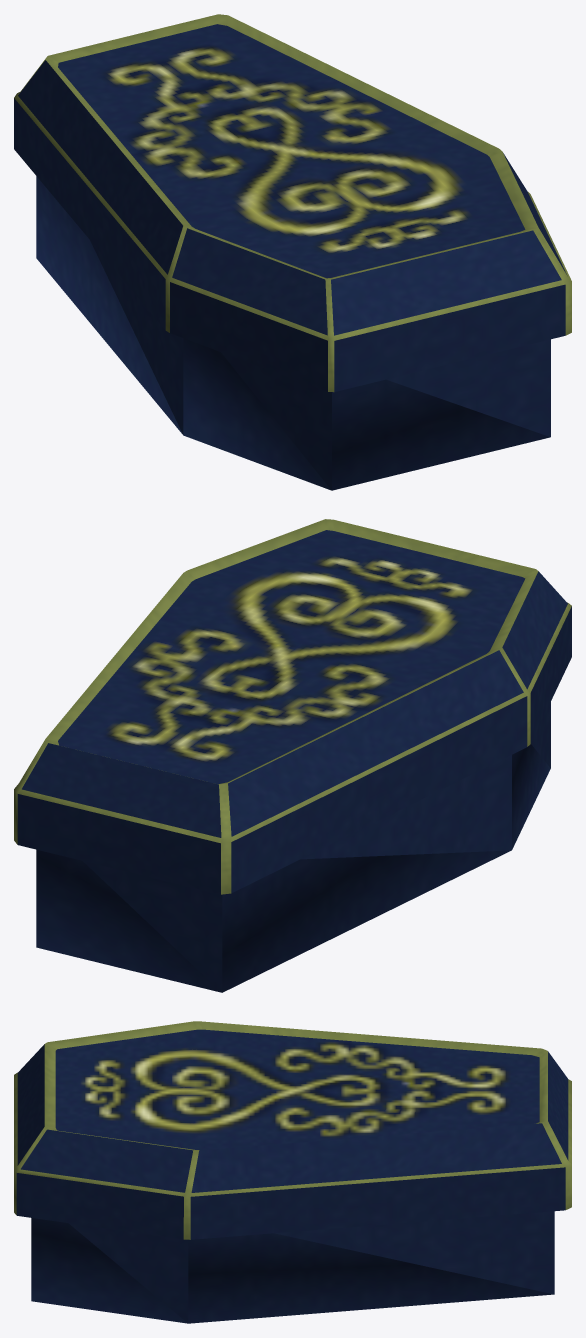
The model's file is KOcoffin.fbx.
The picture shows the model from 3 angles, top to bottom: view 1: azimuth 30°, elevation 25°; view 2: azimuth 150°, elevation 25°; view 3: azimuth 270°, elevation 25°; orthographic projection. The views are drawn at different scales.
Visible parts, largest first — view 1: coffin_lid, coffin00; view 2: coffin_lid, coffin00; view 3: coffin_lid, coffin00.
Boxes of the visible parts, x1,y1,x2,y2 form: coffin_lid: [14, 14, 571, 392]; coffin00: [36, 176, 550, 490]; coffin_lid: [14, 519, 571, 894]; coffin00: [36, 702, 550, 992]; coffin_lid: [14, 1021, 571, 1239]; coffin00: [31, 1211, 554, 1323].
Bounding box in the file's own units: 0.5919 × 0.3185 × 0.9439.
